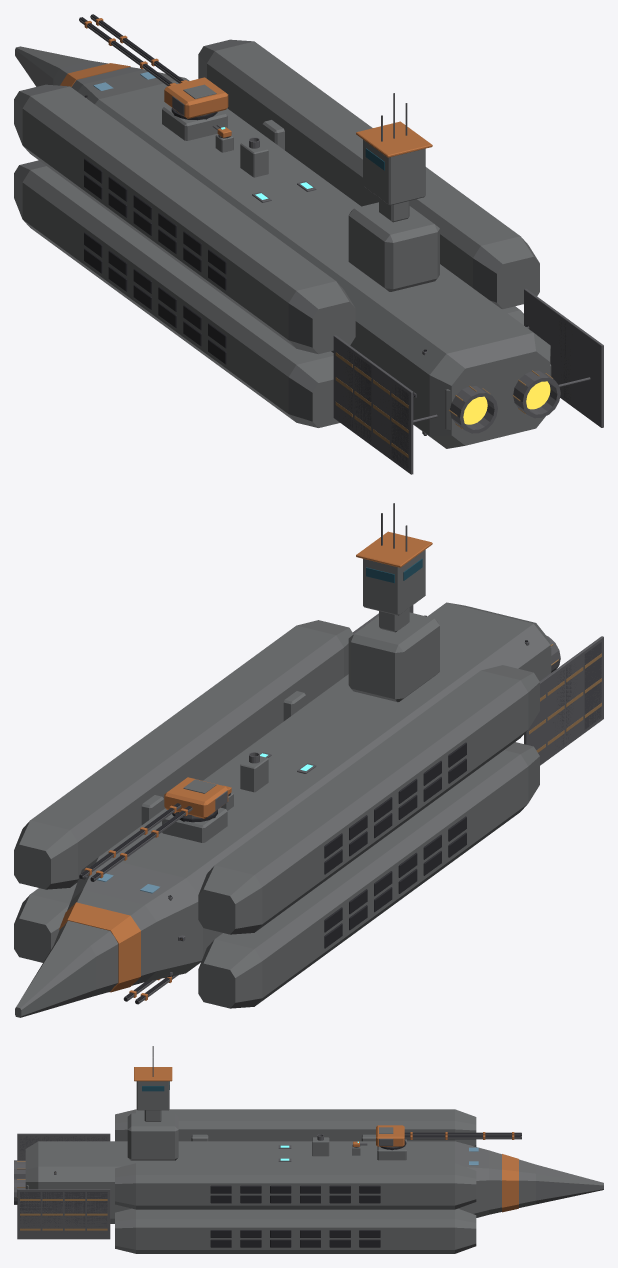
File: mars_missile_cruiser_t4.glb
3 views of the same model, one above another, from view 1: azimuth 30°, elevation 25°; view 2: azimuth 150°, elevation 25°; view 3: azimuth 270°, elevation 25° (orthographic). The views are drawn at different scales.
Parts seen in each view (by area): view 1: FleetHull, mesh_turret_gun_1, mesh_recoil_gun_1; view 2: FleetHull, mesh_turret_gun_1, mesh_recoil_gun_1; view 3: FleetHull, mesh_recoil_gun_1, mesh_turret_gun_1.
Part boxes in pixels (box(x1,y1,x2,y2)): FleetHull: box(14, 39, 603, 474); mesh_turret_gun_1: box(164, 77, 228, 118); mesh_recoil_gun_1: box(79, 14, 187, 86); FleetHull: box(14, 503, 603, 1017); mesh_turret_gun_1: box(164, 777, 228, 818); mesh_recoil_gun_1: box(79, 803, 192, 881); FleetHull: box(14, 1046, 603, 1253); mesh_recoil_gun_1: box(404, 1132, 521, 1139); mesh_turret_gun_1: box(376, 1125, 404, 1147).
Bounding box in the file's own units: 78.7 × 97.74 × 277.
